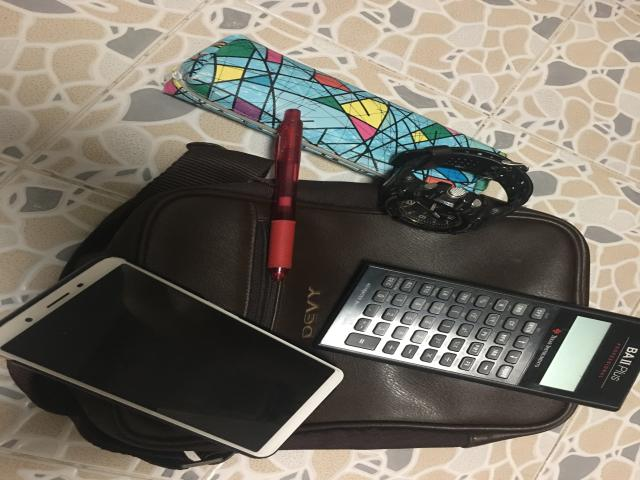Glasses: (380, 146, 533, 233)
Mobile phone: (0, 258, 343, 458), (318, 264, 638, 410)
Pen: (267, 109, 303, 280)
